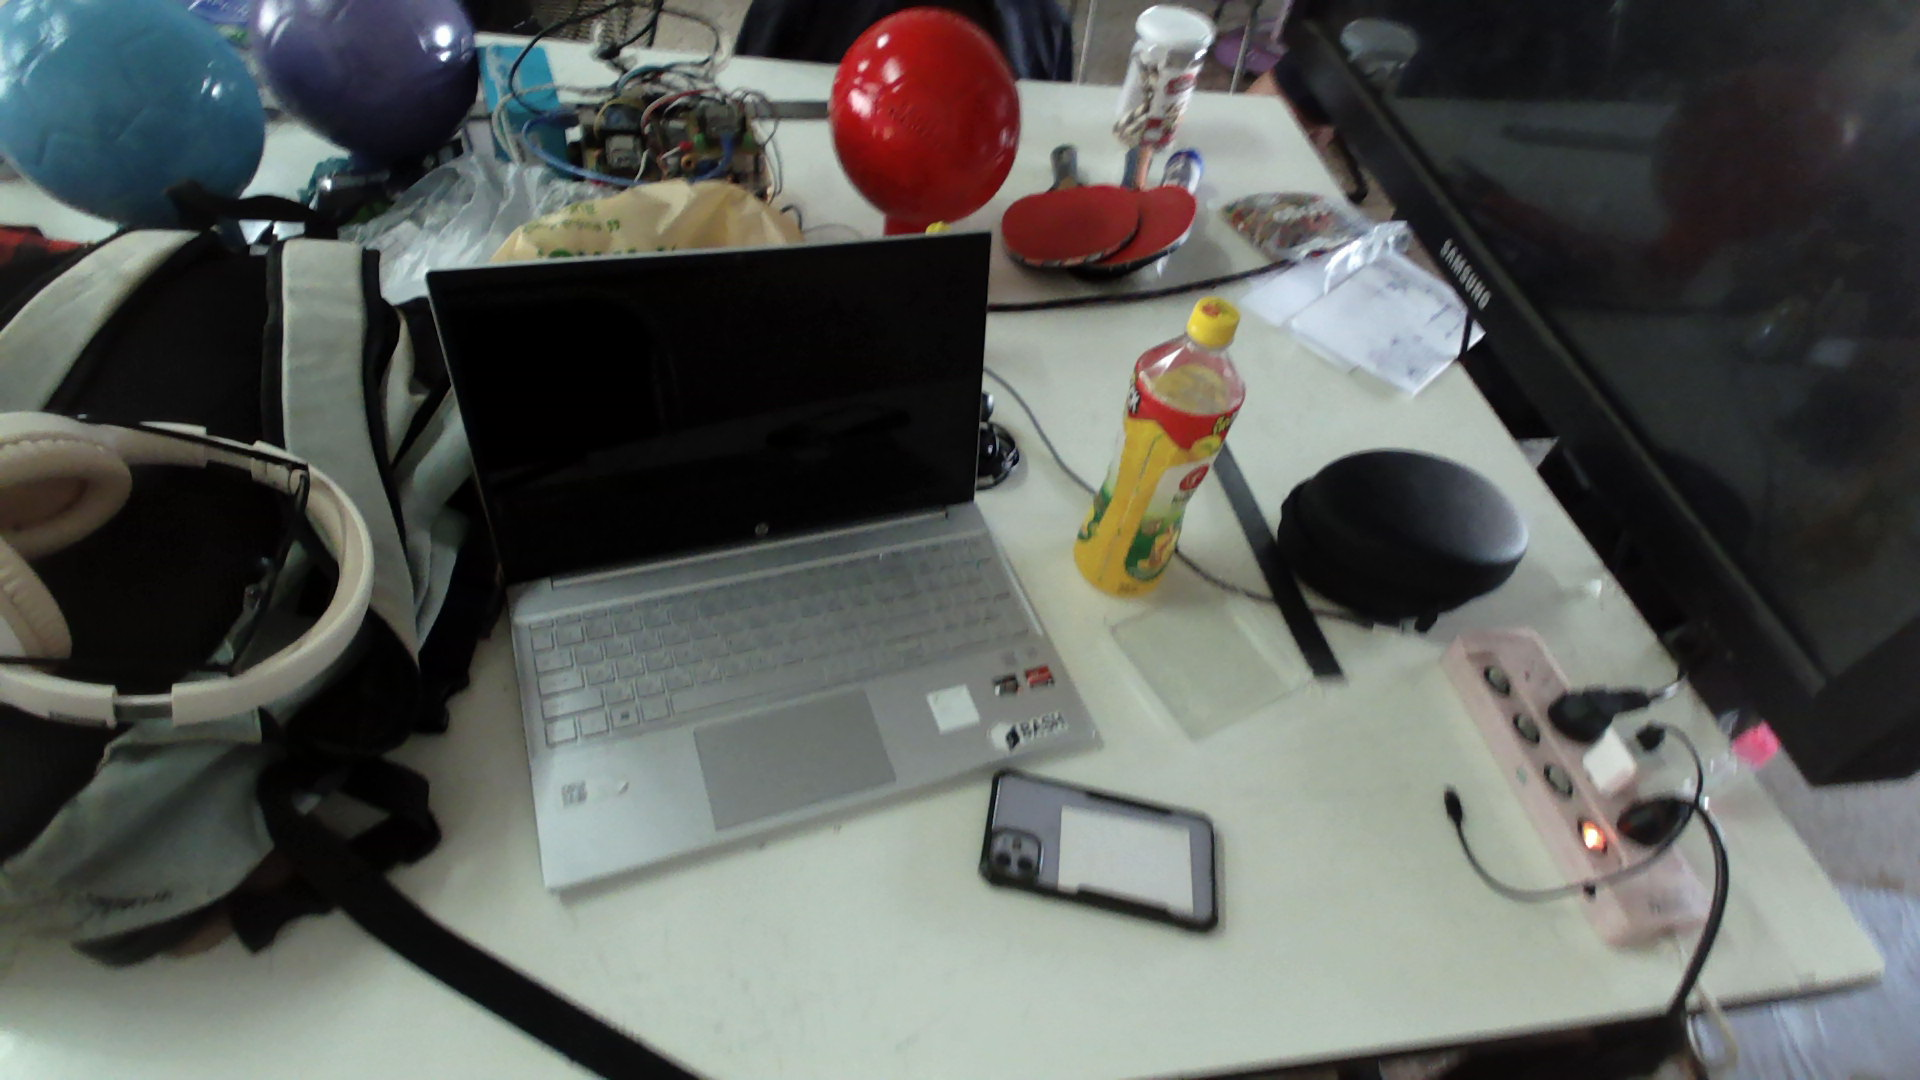Blue ball: (1, 1, 270, 232)
Purple ball: (251, 1, 484, 161)
Red ball: (827, 6, 1023, 234)
